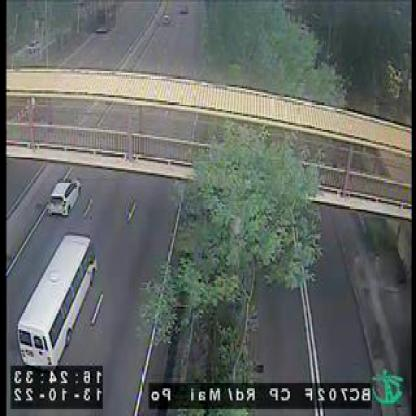Bus: (14, 232, 98, 364)
Car: (47, 176, 80, 216)
